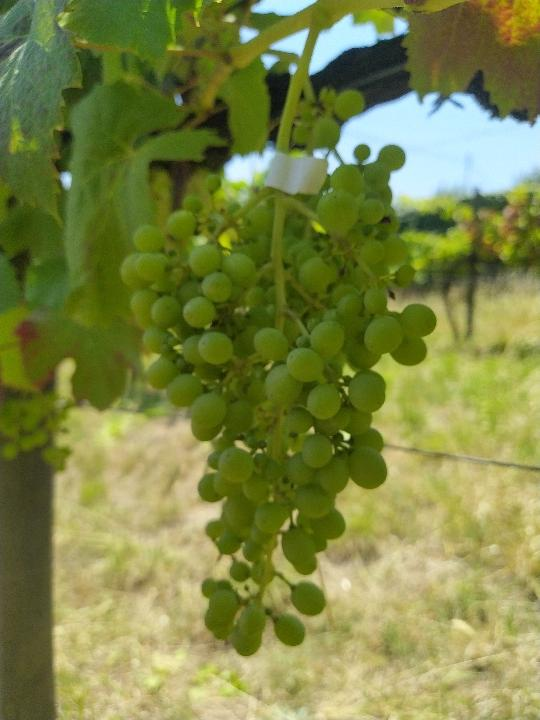grape: (116, 143, 439, 658)
